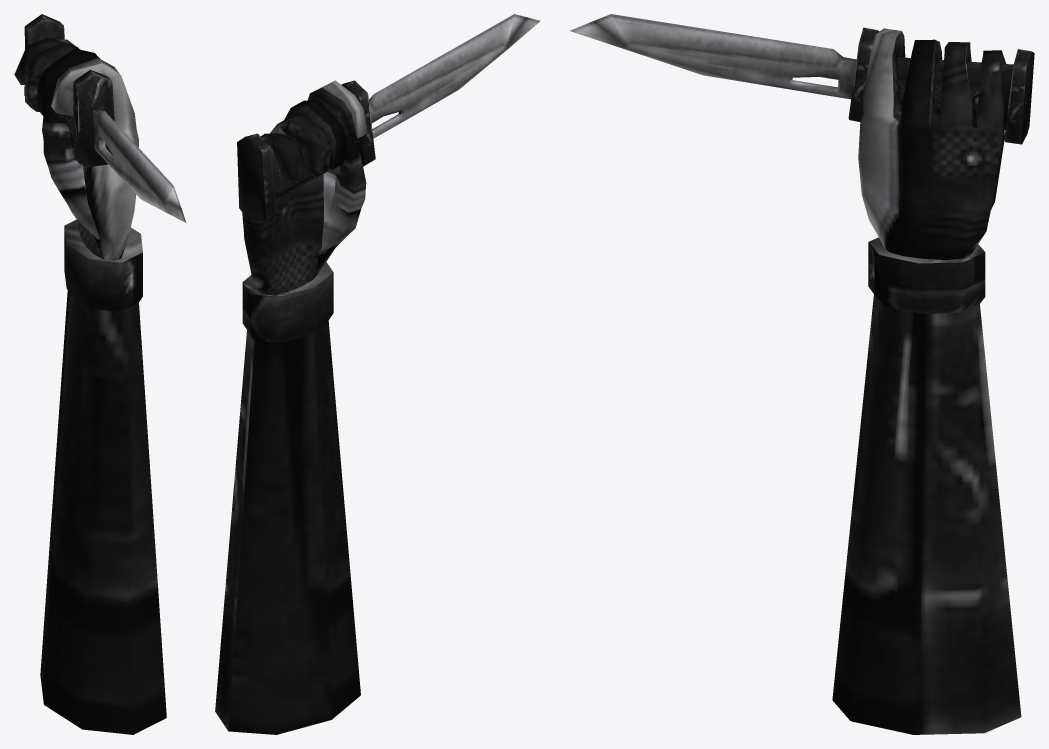
The model's file is tris_highout.fbx.
3 renders of one model, left to right at view 1: azimuth 30°, elevation 25°; view 2: azimuth 150°, elevation 25°; view 3: azimuth 270°, elevation 25°, orthographic. The views are drawn at different scales.
Parts seen in each view (by area): view 1: hands, weapon; view 2: hands, weapon; view 3: hands, weapon.
Part boxes in pixels (x1,y1,x2,y2): hands: [14, 38, 166, 734]; weapon: [24, 14, 186, 222]; hands: [215, 80, 367, 734]; weapon: [237, 14, 540, 221]; hands: [832, 28, 1021, 734]; weapon: [569, 14, 1034, 144].
Bounding box in the file's own units: 5.3 × 22.53 × 14.34.
